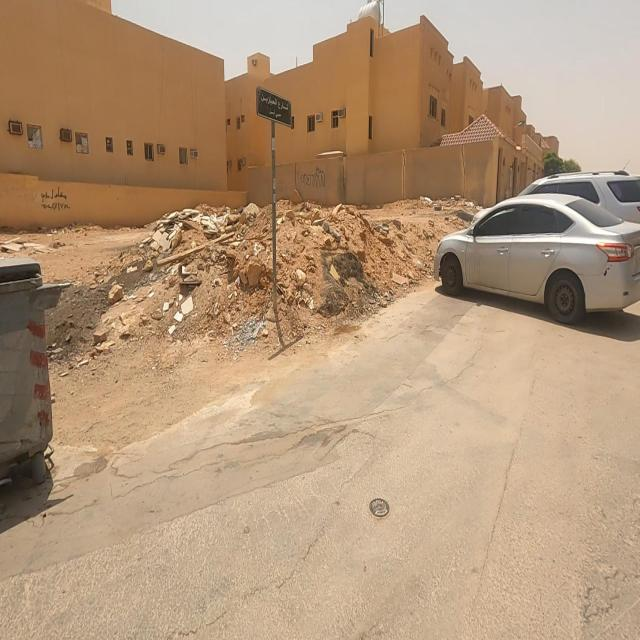Graffiti: (41, 188, 70, 213), (300, 167, 326, 189)
